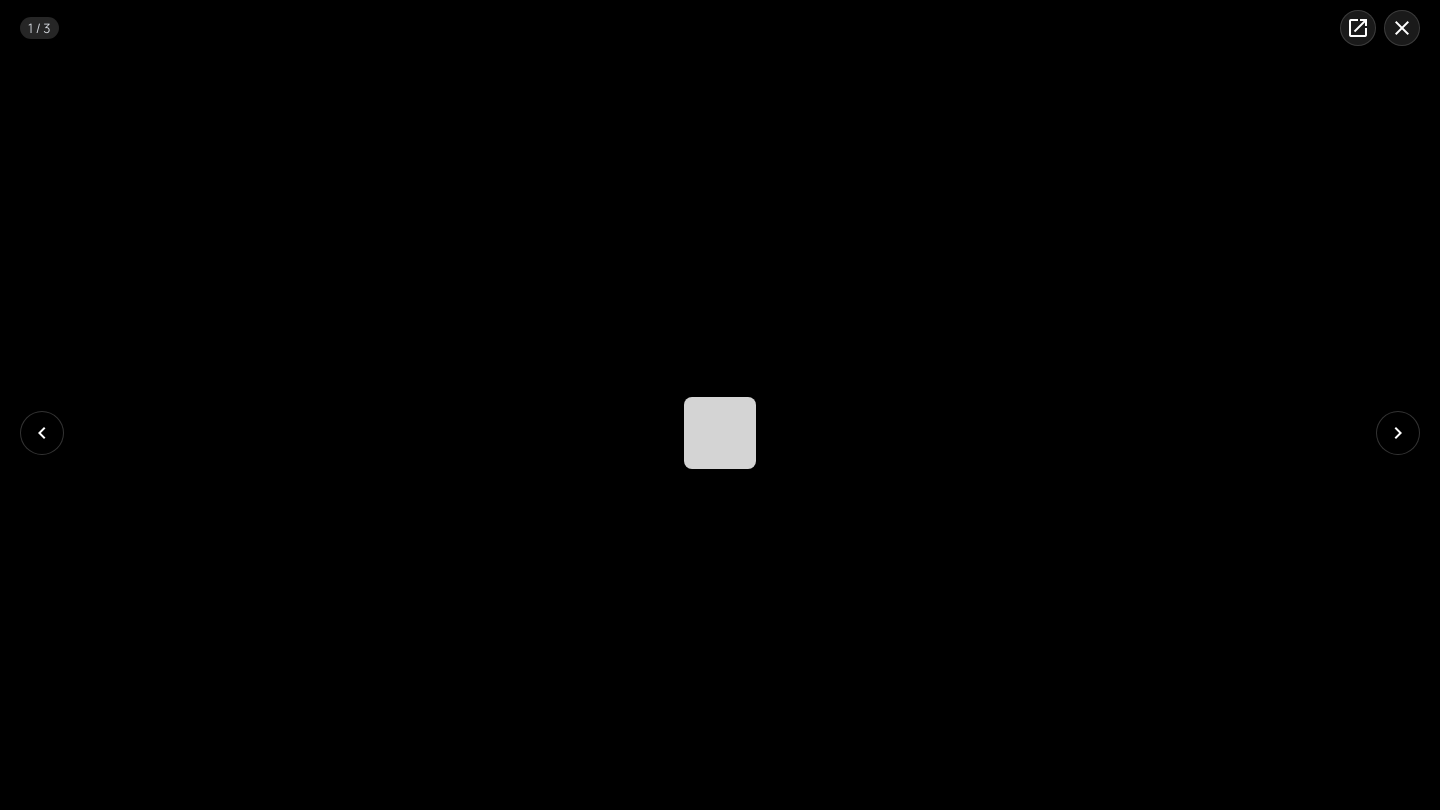
Test: ImagePreviewModal › renders multi-image navigation and cycles through images
Expected: the text "1 / 3" is shown, left=20, top=17, right=58, bottom=39
Click the button with class "next-btn".
click(1398, 433)  # box left=1376, top=411, right=1420, bottom=455
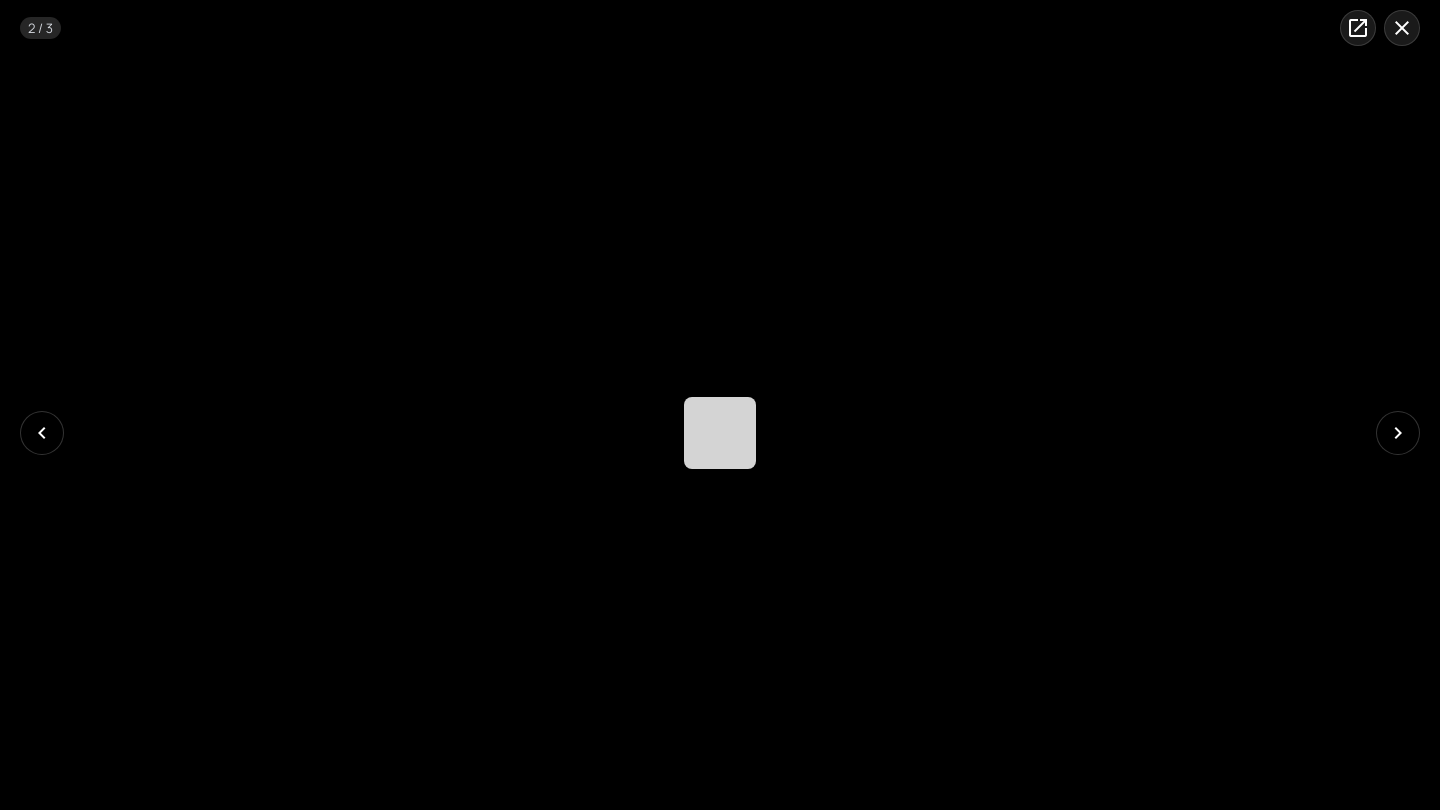
Expected: the text "2 / 3" is shown, left=20, top=17, right=61, bottom=39
Click the button named "上一张".
click(42, 433)  # box left=20, top=411, right=64, bottom=455
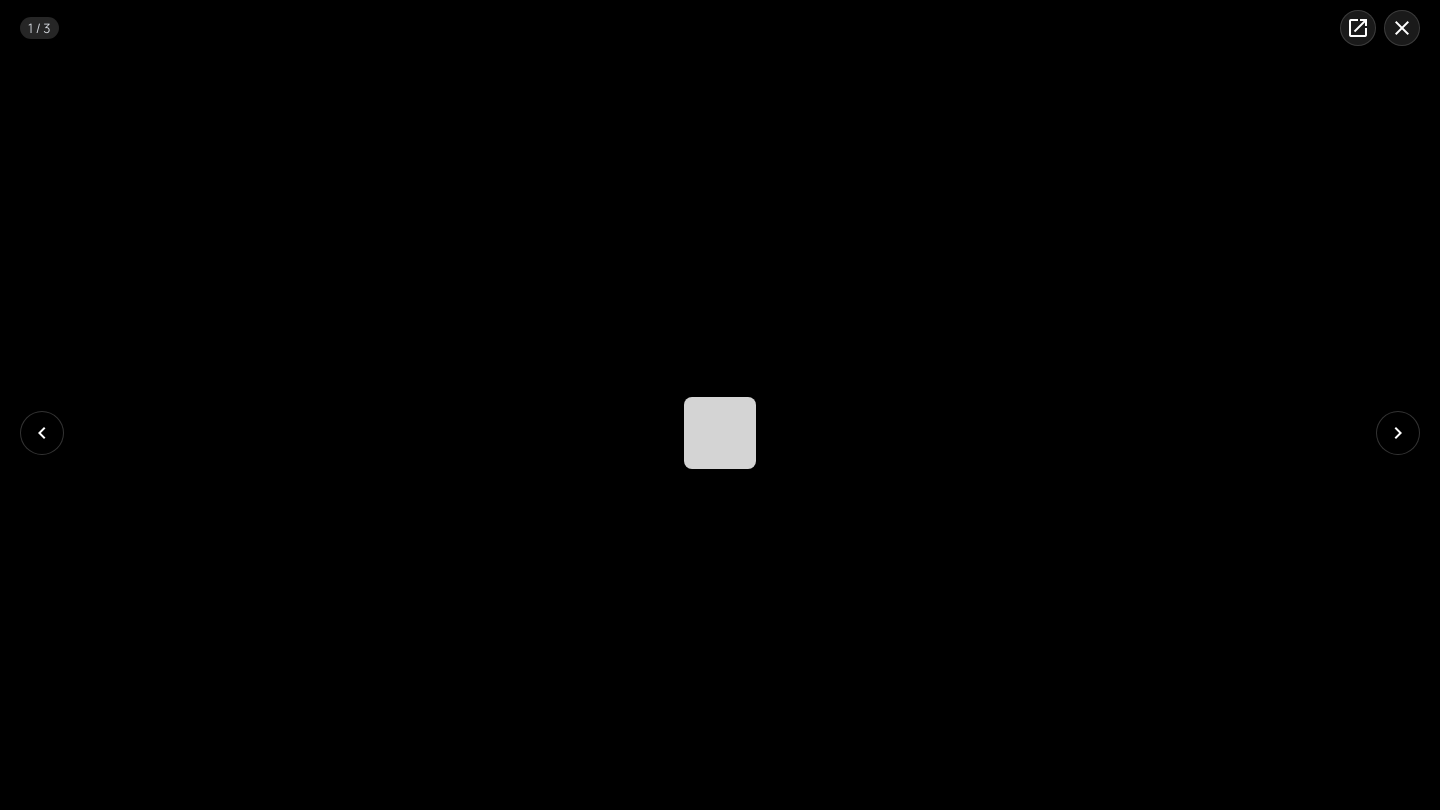
Expected: the text "1 / 3" is shown, left=20, top=17, right=58, bottom=39
